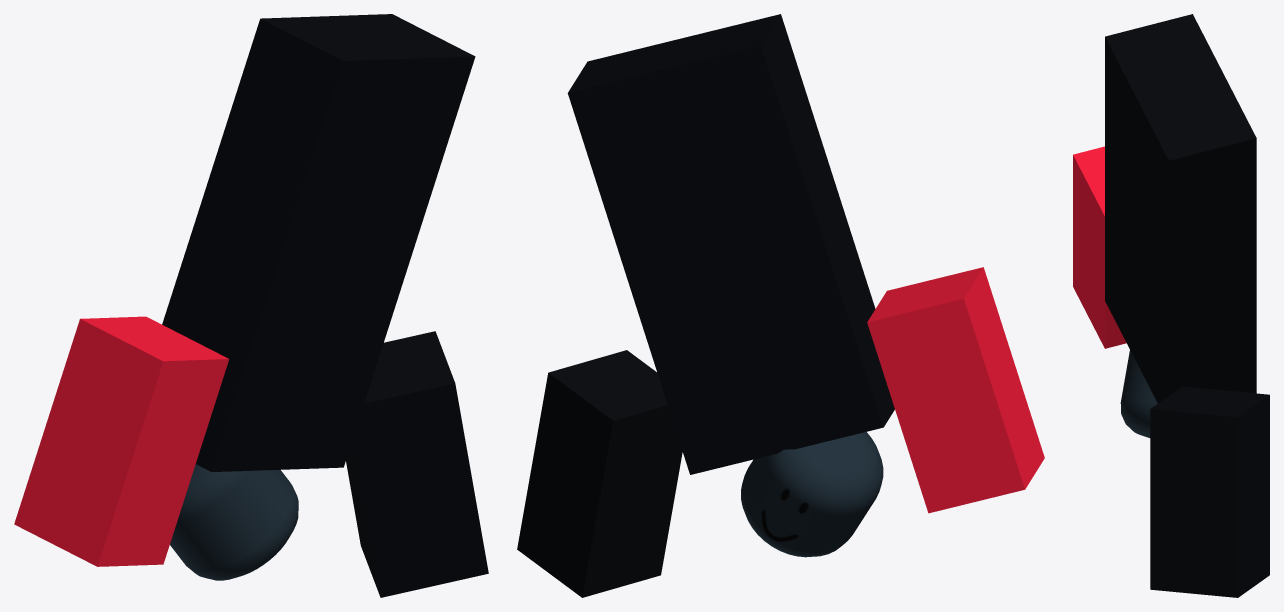
The model's file is glitched.obj.
3 views of the same model, side by side, from view 1: azimuth 30°, elevation 25°; view 2: azimuth 150°, elevation 25°; view 3: azimuth 270°, elevation 25° (orthographic). The views are drawn at different scales.
Visible parts, largest first — view 1: Glitched5, Glitched3, Glitched1, Glitched4, Glitched2, Glitched6; view 2: Glitched5, Glitched4, Glitched3, Glitched1, Glitched2, Glitched6; view 3: Glitched4, Glitched2, Glitched5, Glitched1, Glitched3, Glitched6.
Boxes of the visible parts, left/top/right/bottom form: Glitched5: left=162, top=224, right=409, bottom=472; Glitched3: left=14, top=316, right=229, bottom=566; Glitched1: left=194, top=16, right=409, bottom=266; Glitched4: left=346, top=331, right=488, bottom=597; Glitched2: left=327, top=14, right=475, bottom=264; Glitched6: left=170, top=464, right=298, bottom=580; Glitched5: left=629, top=205, right=894, bottom=474; Glitched4: left=517, top=350, right=682, bottom=597; Glitched3: left=867, top=267, right=1044, bottom=513; Glitched1: left=664, top=14, right=841, bottom=259; Glitched2: left=567, top=38, right=725, bottom=283; Glitched6: left=741, top=432, right=883, bottom=557; Glitched4: left=1150, top=386, right=1269, bottom=597; Glitched2: left=1137, top=76, right=1256, bottom=292; Glitched5: left=1105, top=169, right=1256, bottom=403; Glitched1: left=1105, top=14, right=1224, bottom=230; Glitched3: left=1073, top=146, right=1126, bottom=348; Glitched6: left=1120, top=350, right=1157, bottom=437.
Size of the model in its own units: 5.2 by 5.98 by 2.11.
Materials: 3 (1 with a texture image).
